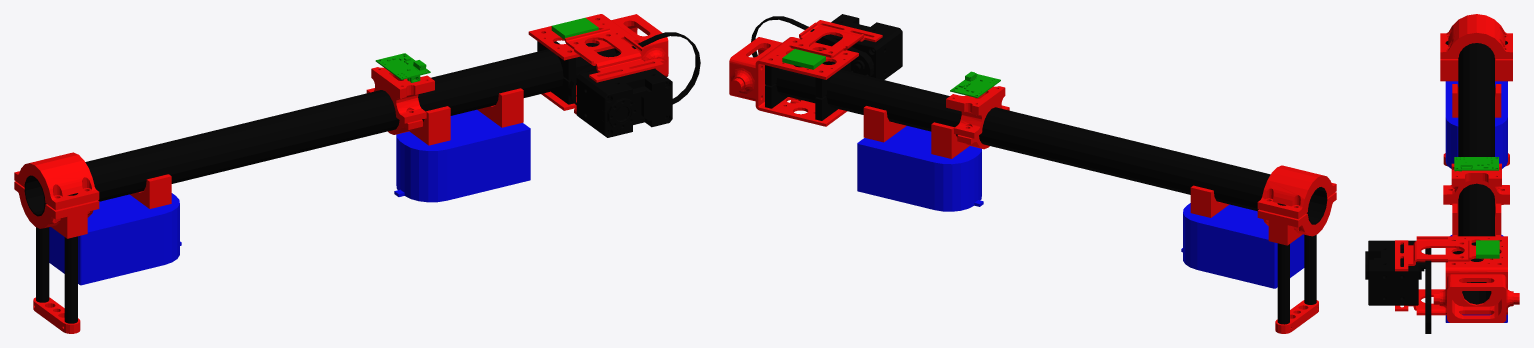
The model's file is ducted_fan_head_link.dae.
3 views of the same model, side by side, from view 1: azimuth 30°, elevation 25°; view 2: azimuth 150°, elevation 25°; view 3: azimuth 270°, elevation 25° (orthographic). The views are drawn at different scales.
Visible parts, largest first — view 1: Black_Nonmetal, Blue, Red, Black_Metal, Green; view 2: Black_Nonmetal, Red, Blue, Black_Metal, Green; view 3: Red, Black_Nonmetal, Black_Metal, Blue, Green.
Part boxes in pixels (left/top/right/bottom): Black_Nonmetal: left=24, top=32, right=700, bottom=323; Blue: left=49, top=109, right=530, bottom=285; Red: left=14, top=14, right=668, bottom=333; Black_Metal: left=537, top=41, right=672, bottom=137; Green: left=375, top=18, right=598, bottom=82; Black_Nonmetal: left=751, top=16, right=1327, bottom=324; Red: left=729, top=20, right=1336, bottom=333; Blue: left=857, top=126, right=1304, bottom=288; Black_Metal: left=765, top=14, right=902, bottom=120; Green: left=782, top=49, right=1000, bottom=97; Red: left=1395, top=14, right=1519, bottom=322; Black_Nonmetal: left=1425, top=41, right=1507, bottom=333; Black_Metal: left=1365, top=240, right=1500, bottom=305; Blue: left=1445, top=81, right=1507, bottom=322; Green: left=1454, top=157, right=1499, bottom=258.
Size of the model in its own units: 0.4355 by 0.1042 by 0.1136.
